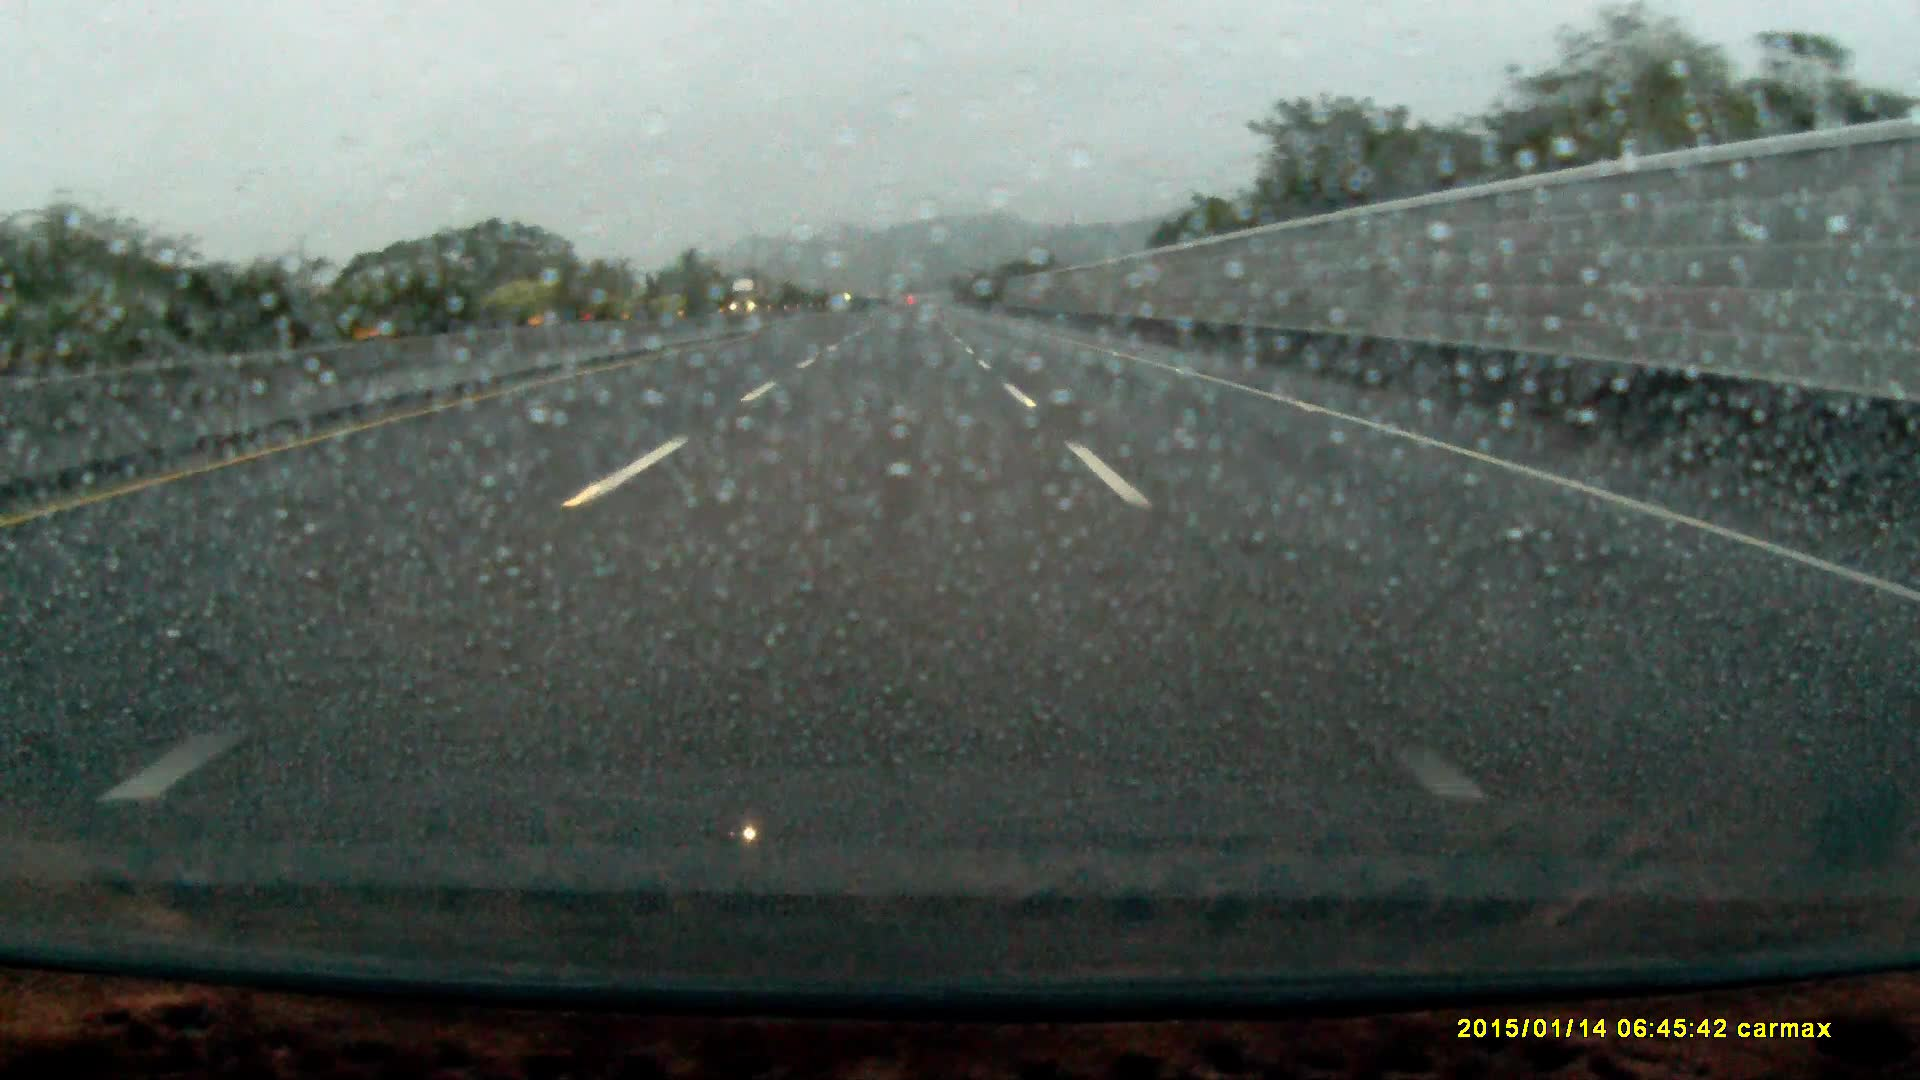vehicle: (729, 280, 767, 314)
